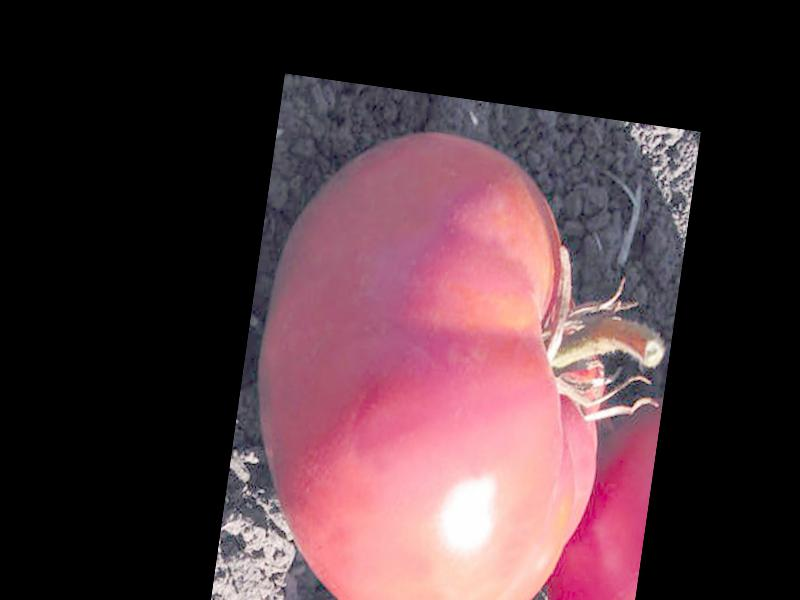Tomato: (224, 112, 636, 600)
